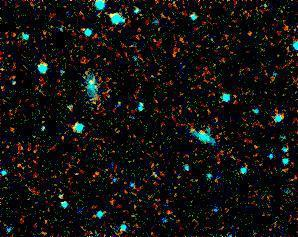star: (75, 85, 105, 115)
